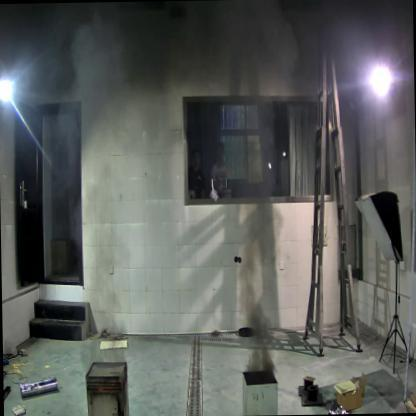smoke: (242, 210, 278, 372)
